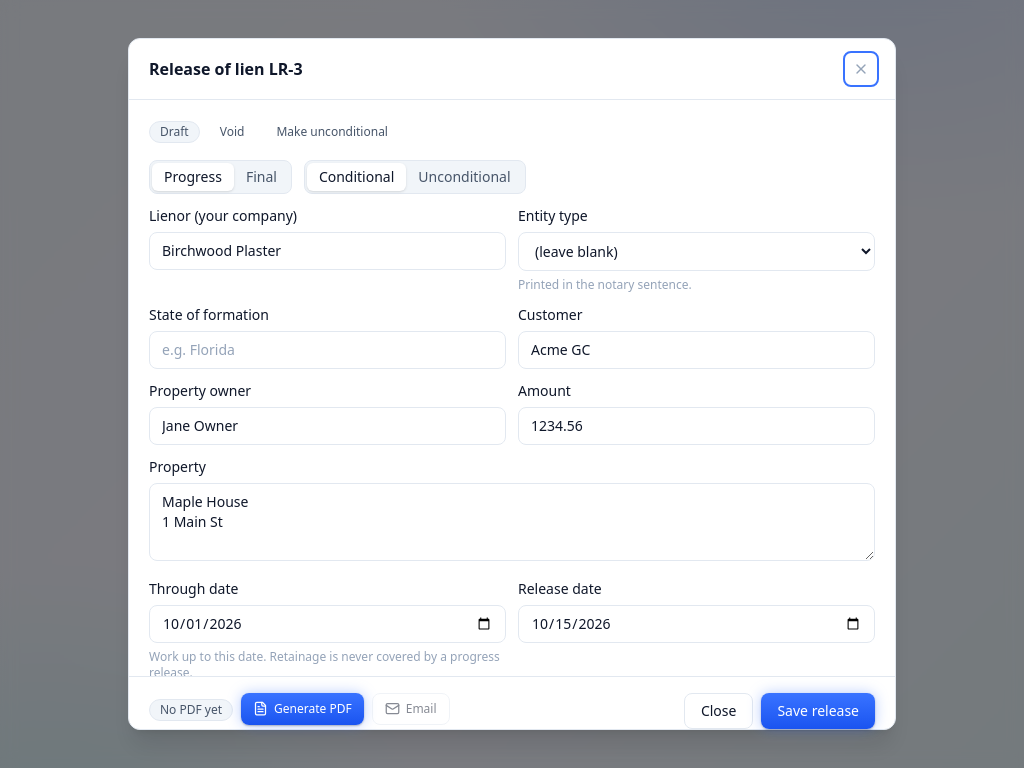
it: LienReleaseEditor › hides the through date on a final release
Check: the date field labelled "Through date" is shown, box [149,605,506,643]
Click the button "Final" at (261, 177), box [234,163,289,191]
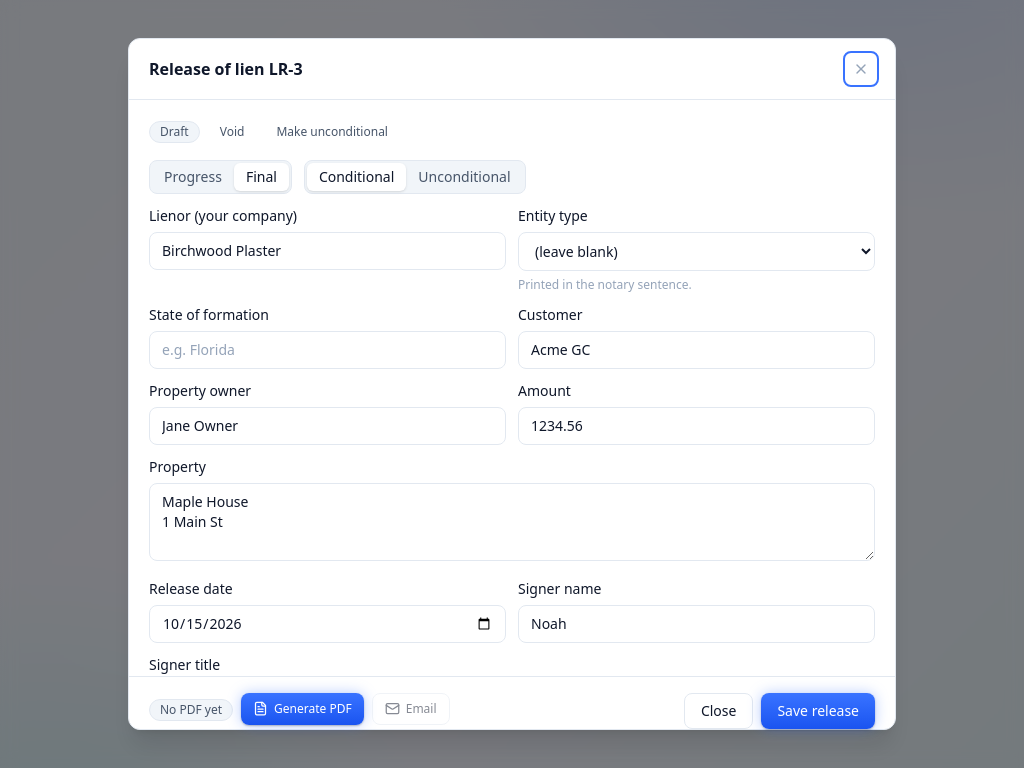
Check: the label labelled "Through date" is gone
